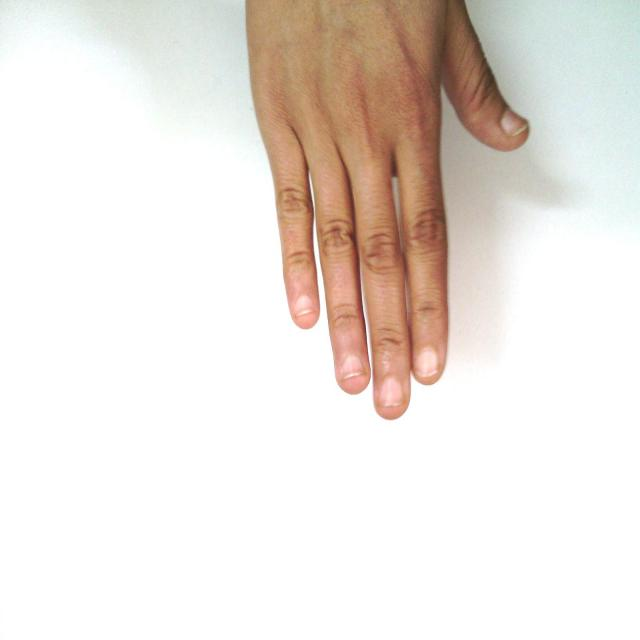others: (181, 0, 612, 455)
